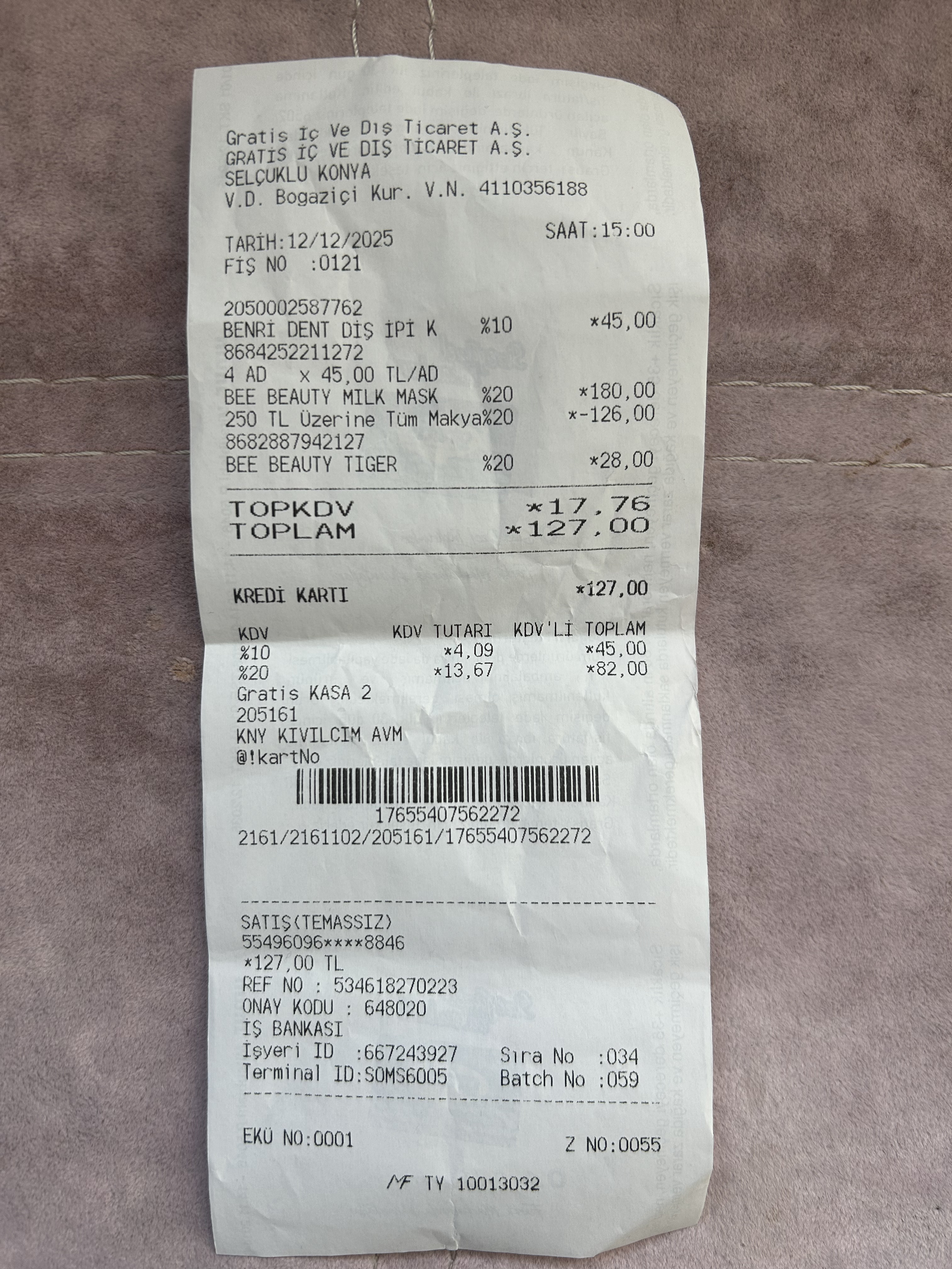date: (282, 225, 400, 252)
price: (519, 513, 659, 542)
workplace: (219, 110, 542, 186)
